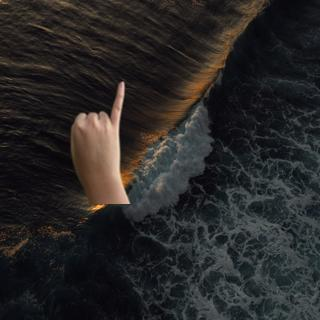Fine: (67, 74, 134, 205)
